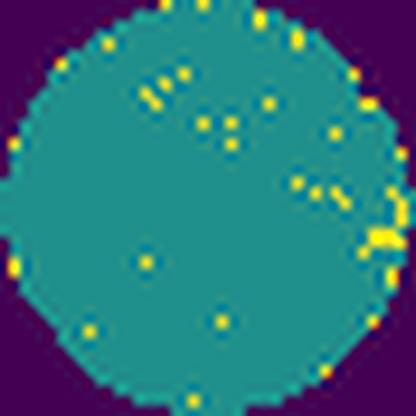Loc: (356, 231, 402, 256)
